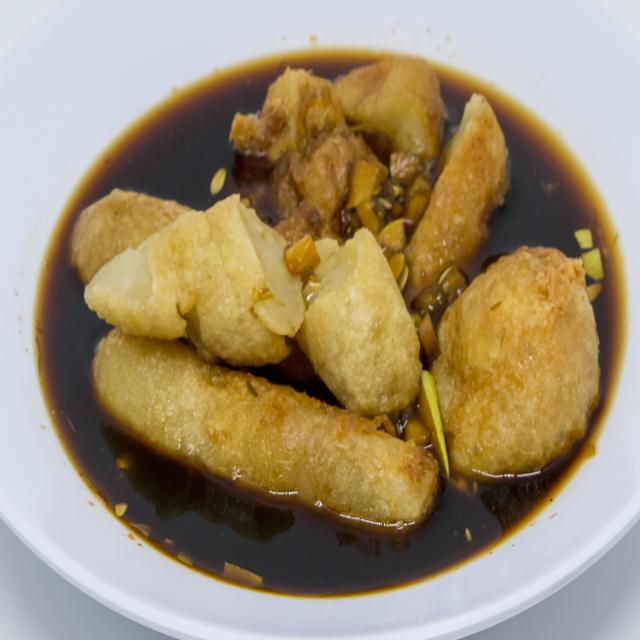Pempek-Palembang: (64, 51, 614, 535)
